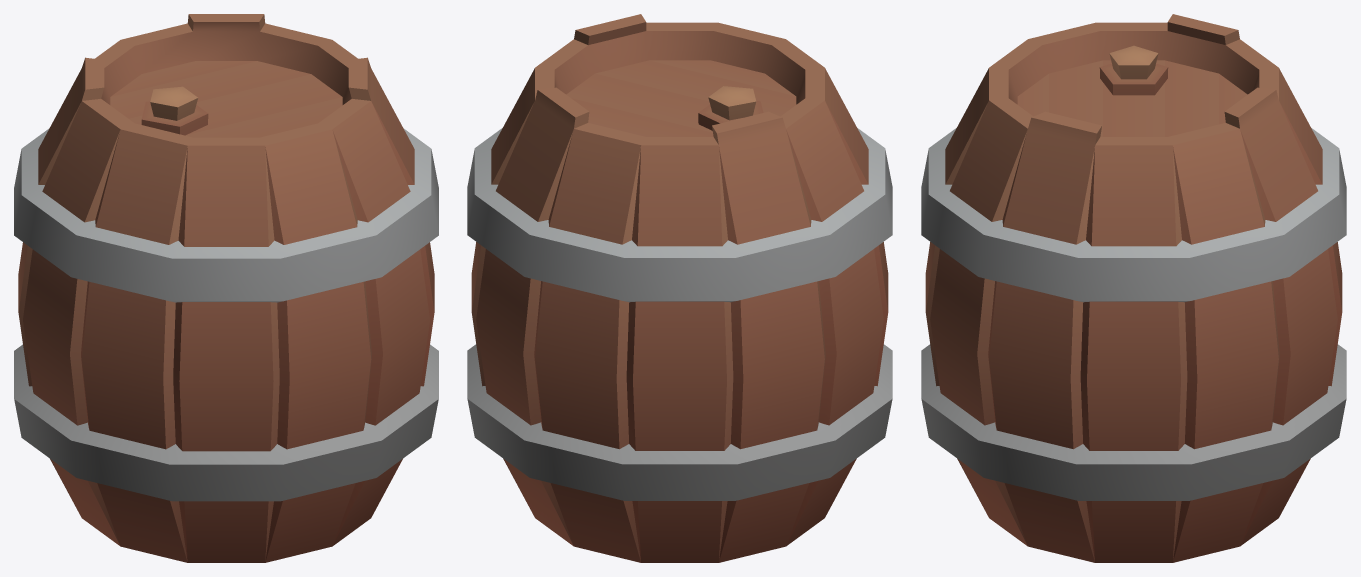
File: kaykit_dungeon_barrel_large.glb
The picture shows the model from 3 angles, left to right: view 1: azimuth 30°, elevation 25°; view 2: azimuth 150°, elevation 25°; view 3: azimuth 270°, elevation 25°; orthographic projection.
Parts seen in each view (by area): view 1: barrel_large; view 2: barrel_large; view 3: barrel_large.
Part boxes in pixels (box(x1,y1,x2,y2)): barrel_large: box(14, 14, 438, 562); barrel_large: box(467, 14, 892, 562); barrel_large: box(921, 14, 1346, 562).
Size of the model in its own units: 1.8 by 2 by 1.8.
1 material, 1 textured.
